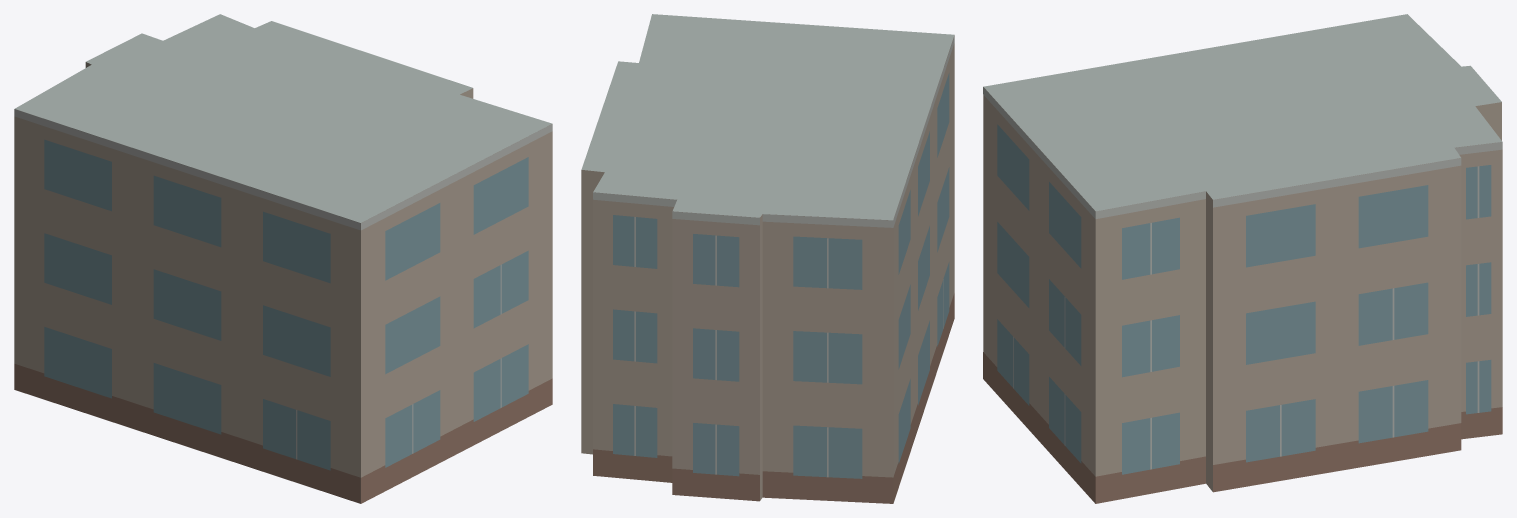
Rendered from survey-upis-32969758.glb.
The picture shows the model from 3 angles, left to right: view 1: azimuth 30°, elevation 25°; view 2: azimuth 150°, elevation 25°; view 3: azimuth 270°, elevation 25°; orthographic projection. The views are drawn at different scales.
Visible parts, largest first — view 1: survey-upis-32969758.tmp; view 2: survey-upis-32969758.tmp; view 3: survey-upis-32969758.tmp.
Boxes of the visible parts, x1,y1,x2,y2 form: survey-upis-32969758.tmp: (14,14,552,503); survey-upis-32969758.tmp: (581,14,954,503); survey-upis-32969758.tmp: (983,14,1502,503).
Size of the model in its own units: 13.26 by 9.15 by 14.74.
